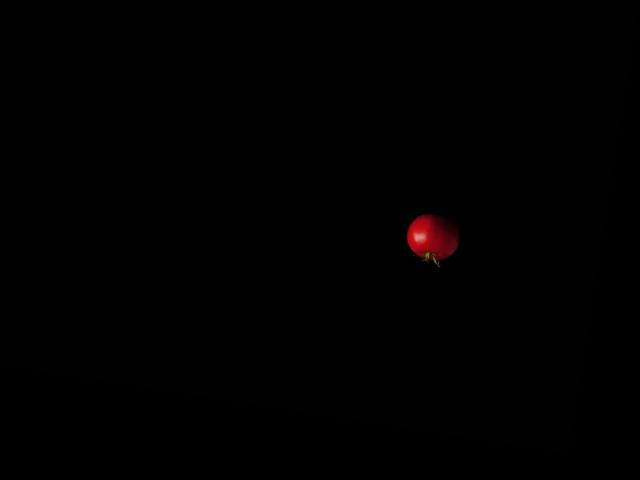tomato: (404, 211, 462, 263)
